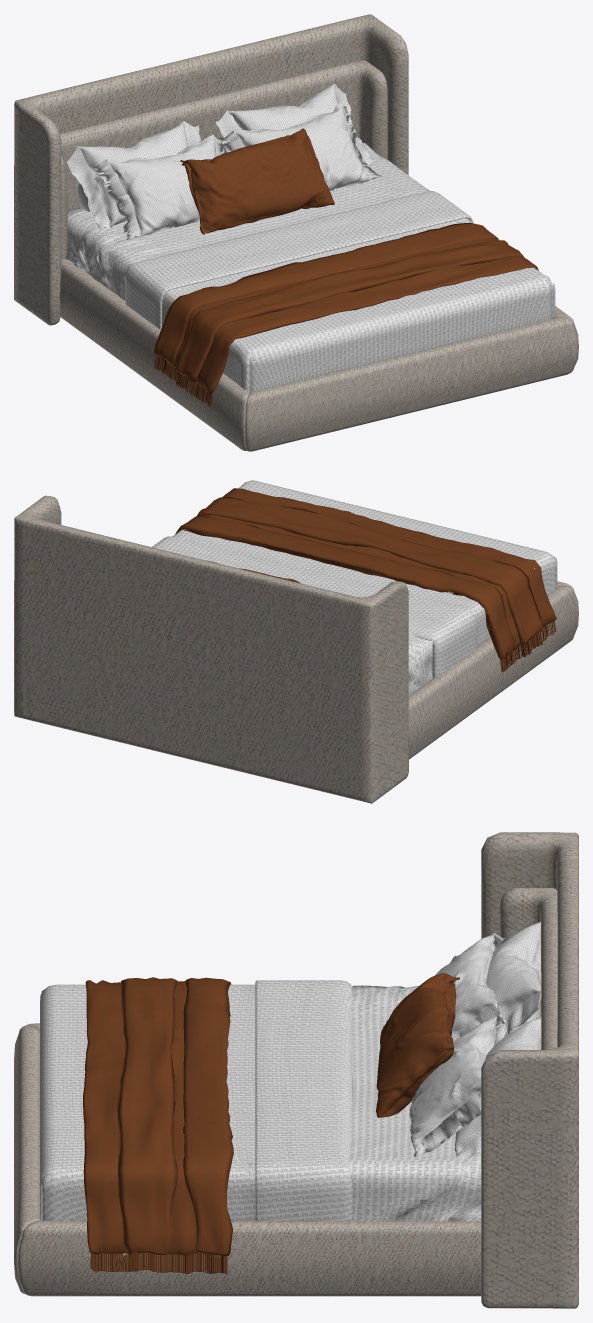
The model's file is bedUltima.glb.
3 renders of one model, top to bottom at view 1: azimuth 30°, elevation 25°; view 2: azimuth 150°, elevation 25°; view 3: azimuth 270°, elevation 25°, orthographic. The views are drawn at different scales.
Parts seen in each view (by area): view 1: Bed back, Blanket, Bed frame, Cloth, Mid White Pillow, Sheet, Orange Pillow, Back White Pillow; view 2: Bed back, Cloth, Blanket, Bed frame, Sheet; view 3: Cloth, Blanket, Bed back, Bed frame, Sheet, Mid White Pillow, Orange Pillow, Back White Pillow.
Boxes of the visible parts, bbox=[...] form: Bed back: bbox=[14, 14, 408, 325]; Blanket: bbox=[125, 191, 555, 391]; Bed frame: bbox=[60, 259, 578, 451]; Cloth: bbox=[154, 222, 538, 406]; Mid White Pillow: bbox=[94, 103, 384, 239]; Sheet: bbox=[65, 143, 471, 300]; Orange Pillow: bbox=[180, 128, 334, 234]; Back White Pillow: bbox=[66, 83, 376, 228]; Bed back: bbox=[14, 495, 408, 803]; Cloth: bbox=[175, 488, 556, 672]; Blanket: bbox=[152, 480, 557, 678]; Bed frame: bbox=[408, 581, 578, 759]; Sheet: bbox=[172, 536, 433, 696]; Cloth: bbox=[83, 977, 233, 1273]; Blanket: bbox=[40, 980, 353, 1221]; Bed back: bbox=[481, 832, 578, 1308]; Bed frame: bbox=[14, 1023, 481, 1296]; Sheet: bbox=[235, 985, 481, 1221]; Mid White Pillow: bbox=[409, 933, 505, 1156]; Orange Pillow: bbox=[376, 973, 459, 1117]; Back White Pillow: bbox=[454, 922, 541, 1160].
Size of the model in its own units: 1.96 by 1.04 by 2.09.
11 materials, 10 textured.
